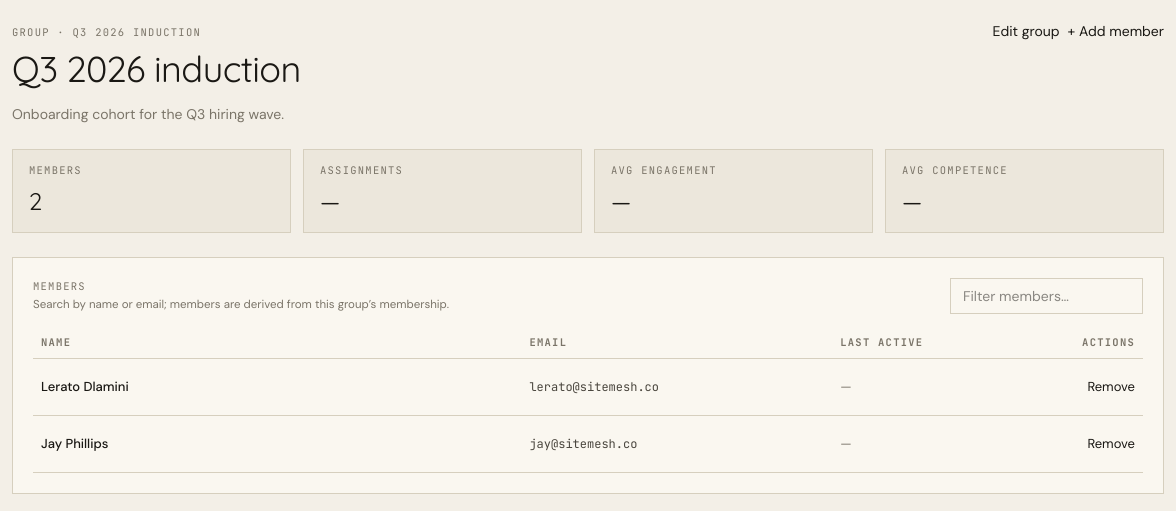
Scenario: group detail — client-side member filter › filters members via the local search input
Expected: the text "Lerato Dlamini" is shown, [33,359,521,416]
Expected: the text "Jay Phillips" is shown, [33,416,521,473]
Type "lerato" into the search field with test id "member-filter-search" at (1046, 296), box [950,278,1143,314]
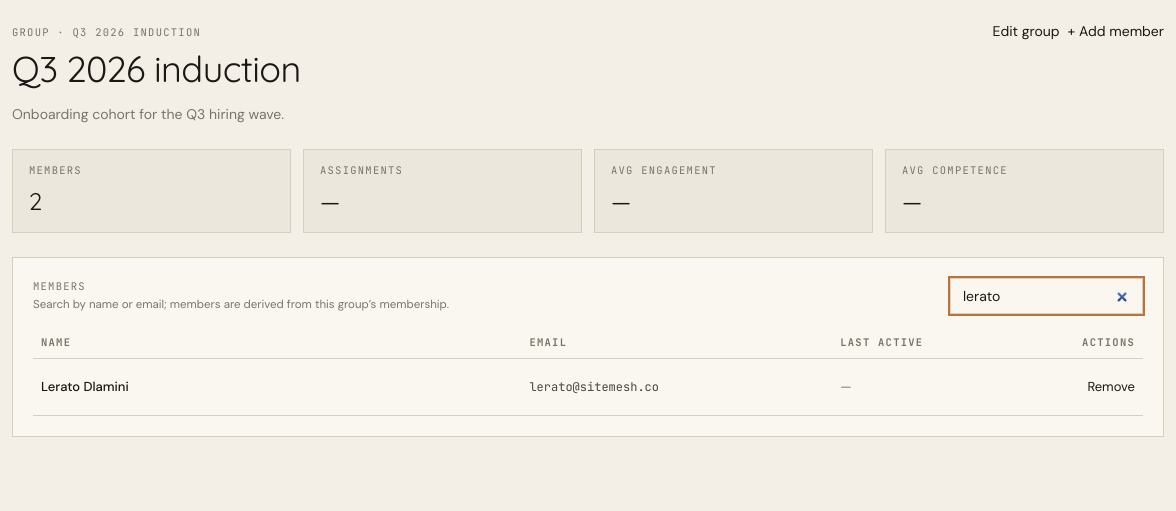
Expected: the text "Lerato Dlamini" is shown, [33,359,521,416]
Expected: the text "Jay Phillips" is gone
